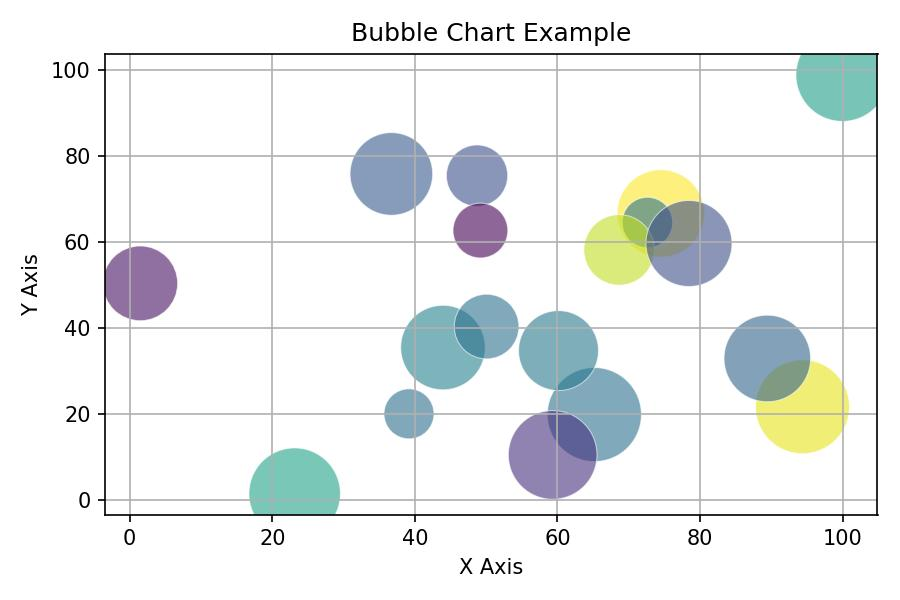axis: (111, 505, 884, 548), (52, 46, 120, 523)
circle: (754, 359, 851, 455), (549, 368, 642, 462), (508, 409, 598, 501), (721, 313, 814, 401), (398, 303, 487, 391), (648, 199, 734, 286), (351, 132, 433, 215), (519, 309, 599, 388), (103, 245, 181, 322), (580, 211, 655, 289), (454, 292, 520, 359), (445, 146, 510, 206), (380, 385, 438, 441), (454, 205, 508, 258), (620, 193, 672, 248)
